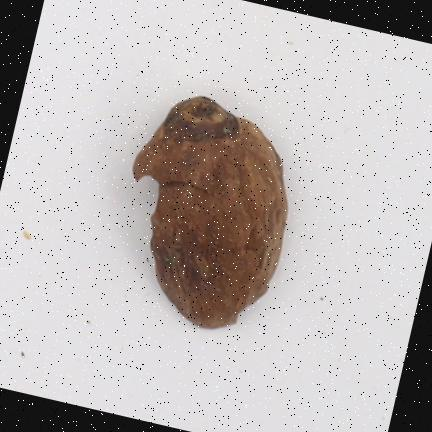full-black: (133, 96, 287, 328)
